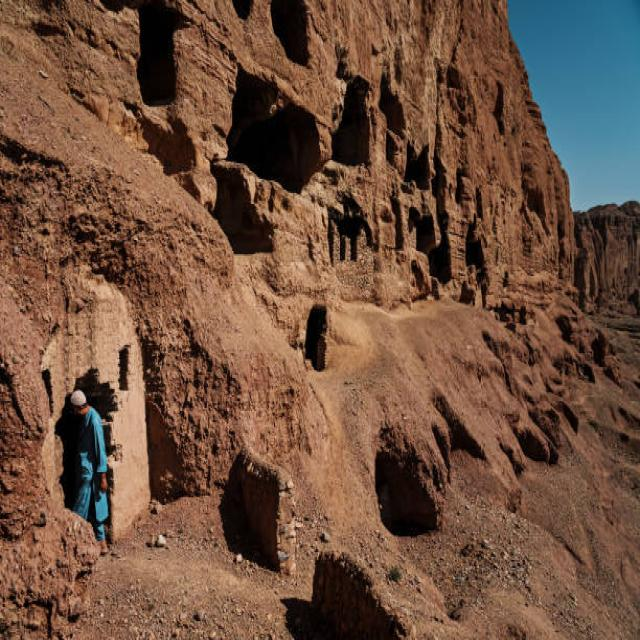civilian: (70, 391, 109, 554)
